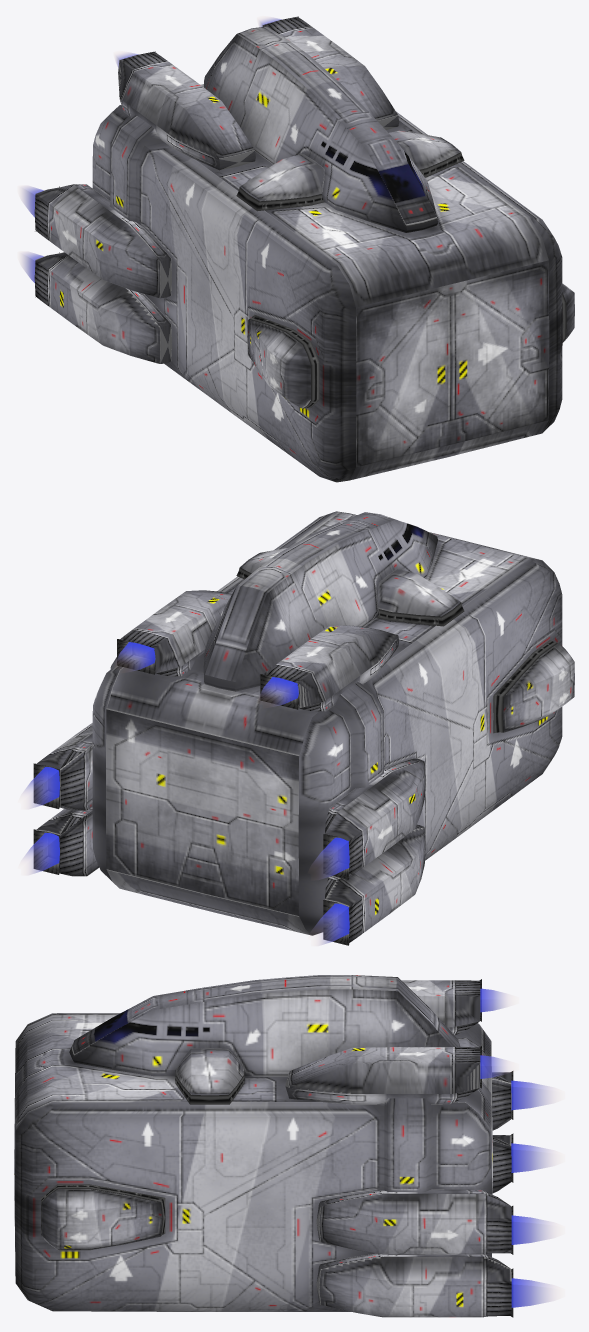
The model's file is plowshare.gltf.
3 views of the same model, one above another, from view 1: azimuth 30°, elevation 25°; view 2: azimuth 150°, elevation 25°; view 3: azimuth 270°, elevation 25° (orthographic). The views are drawn at different scales.
Parts seen in each view (by area): view 1: base, glow; view 2: base, glow; view 3: base, glow.
Part boxes in pixels (left/top/right/bottom): base: left=34, top=16, right=574, bottom=482; glow: left=21, top=17, right=281, bottom=282; base: left=33, top=511, right=574, bottom=945; glow: left=22, top=642, right=349, bottom=945; base: left=14, top=975, right=513, bottom=1317; glow: left=480, top=988, right=553, bottom=1307.
Size of the model in its own units: 27.74 by 25.4 by 44.82.
Materials: 2 (2 with a texture image).
